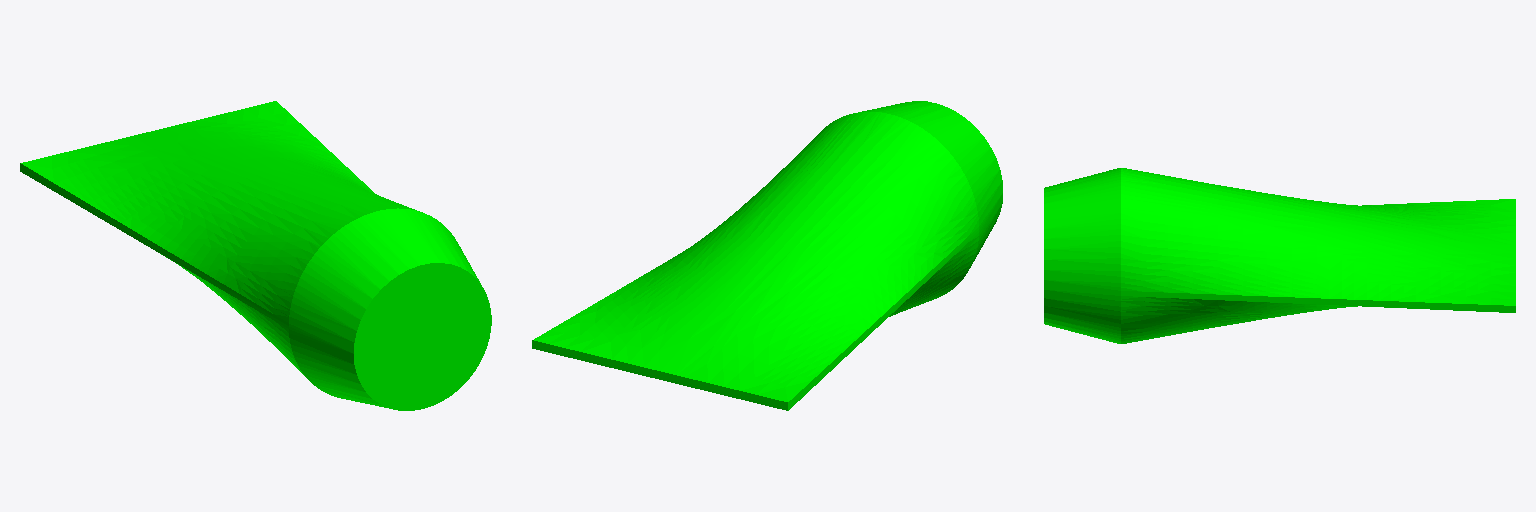
robot.urdf — tabletop:
<?xml version="1.0" ?>
<robot name="tabletop">
  <link name="base_link">

    <contact>
      <restitution value="1.0e-8" />
      <!-- <lateral_friction value="1.0e+8"/> -->
      <!-- <rolling_friction value="1.0e+8"/> 
      <spinning_friction value="1.0e+8"/>  -->
      <contact_cfm value="0.00001"/>
      <contact_erp value="0.2"/>
    </contact>

    <inertial>
      <origin rpy="0 0 0" xyz="0 0 0"/>
      <!-- <mass value="0.5" /> -->
      <mass value="1" />
      <!-- <mass value="0.1" /> -->
      <inertia ixx="1" ixy="0" ixz="0" iyy="1" iyz="0" izz="1"/>
    </inertial>
    
    <visual>
      <origin rpy="0 0 0" xyz="0 0 0"/>
      <geometry>
        <mesh filename="mesh/lotion.STL" scale="1.0 1.0 1.0"/>
        <!-- <mesh filename="mesh/lotion.dae" scale="0.055 0.055 0.055"/> -->
        <!-- <mesh filename="cup.obj" scale="2.1976 2.1976 2.1976"/> -->
        <!-- <mesh filename="cup.obj" scale="1.8182 1.8182 1.8182"/> -->
      </geometry>
      <material name="tray_material">
        <color rgba="0 1 0 1"/>
      </material>
    </visual>
    <collision>
      <origin rpy="0 0 0" xyz="0 0 0"/>
      <geometry>
        <mesh filename="mesh/lotion.STL" scale="1.0 1.0 1.0"/>
        <!-- <mesh filename="mesh/lotion.dae" scale="0.055 0.055 0.055"/> -->
        <!-- <mesh filename="cup.obj" scale="2.1976 2.1976 2.1976"/> -->
        <!-- <mesh filename="cup.obj" scale="1.8182 1.8182 1.8182"/> -->
      </geometry>
    </collision>
  </link>
</robot>

--- Render facts (derived) ---
Views: 3 orthographic renders of the robot side by side, from view 1: azimuth 30°, elevation 25°; view 2: azimuth 150°, elevation 25°; view 3: azimuth 270°, elevation 25°.
Robot: tabletop — 1 links, 0 joints (none); root link base_link; default pose: all joints at 0.
Links seen in each view (by area): view 1: base_link; view 2: base_link; view 3: base_link.
Boxes of the visible links, x1,y1,x2,y2 form: base_link: (20,101,491,410); base_link: (532,101,1002,410); base_link: (1044,168,1515,343).
Bounding box of the posed robot: 0.063 × 0.117 × 0.044 m (x, y, z).
Meshes: 1 distinct files referenced, 1 mesh visuals loaded (1 binary STL).